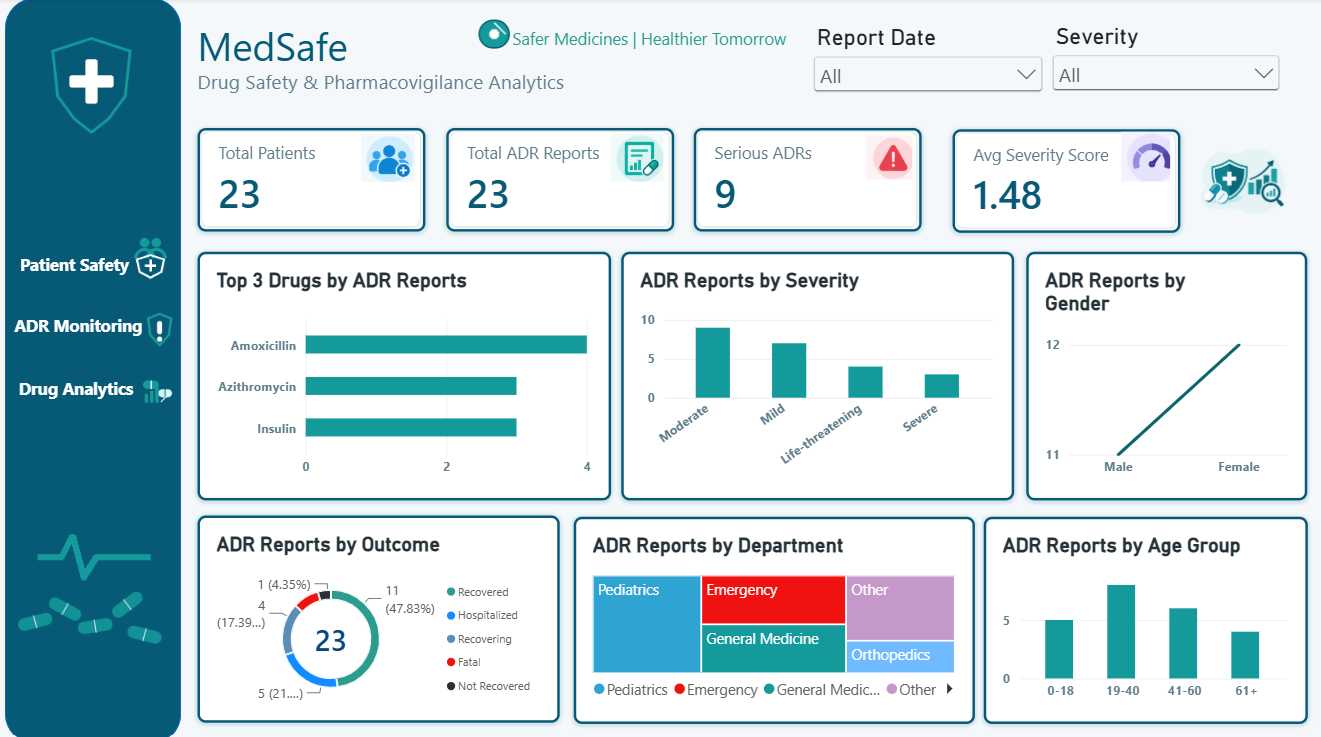

Layout of this report page (visuals, bound fields, positions):
{"tool":"powerbi","page":{"name":"Page 1","canvas":[1280,720],"ordinal":0},"visuals":[{"type":"shape","box":[10,0,170,720],"z":0},{"type":"textbox","box":[245,0,170,720],"z":1000},{"type":"textbox","box":[195,20,250,50],"z":2000},{"type":"textbox","box":[195,68,450,45],"z":3000},{"type":"textbox","box":[500,28,300,25],"z":4000},{"type":"cardVisual","fields":{"Data":["Count(Medication_Safety_Dataset.patient_id)"]},"box":[195,125,220,100],"z":5000},{"type":"cardVisual","fields":{"Data":["CountNonNull(Medication_Safety_Dataset.record_id)"]},"box":[435,125,220,100],"z":6000},{"type":"cardVisual","fields":{"Data":["Sum(Medication_Safety_Dataset.Serious ADR Flag)"]},"box":[675,125,220,100],"z":7000},{"type":"cardVisual","fields":{"Data":["Avg(Medication_Safety_Dataset.Severity Score)"]},"box":[924.1,126.7,220,100],"z":8000},{"type":"clusteredBarChart","title":"Top 3 Drugs by ADR Reports","fields":{"Category":["Medication_Safety_Dataset.drug"],"Y":["CountNonNull(Medication_Safety_Dataset.record_id)"]},"box":[195.4,244.9,399.3,240.1],"z":9000},{"type":"clusteredColumnChart","title":"ADR Reports by Severity","fields":{"Category":["Medication_Safety_Dataset.severity"],"Y":["CountNonNull(Medication_Safety_Dataset.record_id)"]},"box":[604.4,244.9,378.8,240.1],"z":10000},{"type":"donutChart","title":"ADR Reports by Outcome","fields":{"Category":["Medication_Safety_Dataset.outcome"],"Y":["CountNonNull(Medication_Safety_Dataset.record_id)"]},"box":[195.4,499.5,349.9,200.3],"z":11000},{"type":"treemap","title":"ADR Reports by Department","fields":{"Group":["Medication_Safety_Dataset.department"],"Values":["CountNonNull(Medication_Safety_Dataset.record_id)"]},"box":[558.6,500.7,387.3,200.3],"z":12000},{"type":"slicer","fields":{"Values":["Medication_Safety_Dataset.Report Date"]},"box":[785.4,25.3,230.4,66.4],"z":13000},{"type":"slicer","fields":{"Values":["Medication_Safety_Dataset.severity"]},"box":[1015.8,24.1,229.2,70],"z":14000},{"type":"image","box":[35,25,116.2,120],"z":15000},{"type":"image","box":[405.4,0,153.2,70],"z":16000},{"type":"image","box":[9.7,470.5,165.3,249.7],"z":17000},{"type":"image","box":[353.5,130.3,51.9,48.3],"z":18000},{"type":"image","box":[594.8,118.2,50.7,72.4],"z":19000},{"type":"image","box":[832.4,132.7,61.5,42.2],"z":20000},{"type":"image","box":[1087,129.1,47.1,48.3],"z":21000},{"type":"lineClusteredColumnComboChart","title":"ADR Reports by Age Group","fields":{"Category":["Medication_Safety_Dataset.Age Group"],"Y":["CountNonNull(Medication_Safety_Dataset.record_id)"]},"box":[954.3,500.7,312.5,200.3],"z":22000},{"type":"lineChart","title":"ADR Reports by Gender","fields":{"Category":["Medication_Safety_Dataset.gender"],"Y":["CountNonNull(Medication_Safety_Dataset.record_id)"]},"box":[995.3,244.9,271.4,240.1],"z":23000},{"type":"image","box":[1073.7,123.1,206.3,112.2],"z":24000},{"type":"textbox","box":[23.8,246.2,142.5,41.2],"z":25000},{"type":"textbox","box":[10,305,156.2,73.8],"z":26000},{"type":"textbox","box":[10,365,165,53.8],"z":27000},{"type":"image","box":[123.8,212.5,51.2,75],"z":28000},{"type":"image","box":[137.5,297.5,42.5,45],"z":28001},{"type":"image","box":[137.5,355,38.8,46.2],"z":28002},{"type":"image","box":[22.5,470,145,125],"z":28003}]}

Visuals, with their boxes in screenshot pixels (x1, y1, x2, y2):
shape: {"x1": 0, "y1": 0, "x2": 178, "y2": 736}
textbox: {"x1": 246, "y1": 0, "x2": 424, "y2": 736}
textbox: {"x1": 194, "y1": 14, "x2": 455, "y2": 66}
textbox: {"x1": 194, "y1": 64, "x2": 664, "y2": 111}
textbox: {"x1": 512, "y1": 22, "x2": 826, "y2": 49}
cardVisual - Count(Medication_Safety_Dataset.patient_id): {"x1": 194, "y1": 124, "x2": 424, "y2": 228}
cardVisual - CountNonNull(Medication_Safety_Dataset.record_id): {"x1": 444, "y1": 124, "x2": 674, "y2": 228}
cardVisual - Sum(Medication_Safety_Dataset.Serious ADR Flag): {"x1": 695, "y1": 124, "x2": 925, "y2": 228}
cardVisual - Avg(Medication_Safety_Dataset.Severity Score): {"x1": 956, "y1": 126, "x2": 1186, "y2": 230}
"Top 3 Drugs by ADR Reports" clusteredBarChart: {"x1": 194, "y1": 249, "x2": 611, "y2": 500}
"ADR Reports by Severity" clusteredColumnChart: {"x1": 622, "y1": 249, "x2": 1018, "y2": 500}
"ADR Reports by Outcome" donutChart: {"x1": 194, "y1": 515, "x2": 560, "y2": 725}
"ADR Reports by Department" treemap: {"x1": 574, "y1": 517, "x2": 979, "y2": 726}
slicer - Medication_Safety_Dataset.Report Date: {"x1": 811, "y1": 20, "x2": 1052, "y2": 89}
slicer - Medication_Safety_Dataset.severity: {"x1": 1052, "y1": 18, "x2": 1291, "y2": 91}
image: {"x1": 26, "y1": 19, "x2": 148, "y2": 145}
image: {"x1": 413, "y1": 0, "x2": 574, "y2": 66}
image: {"x1": 0, "y1": 485, "x2": 173, "y2": 736}
image: {"x1": 359, "y1": 129, "x2": 413, "y2": 180}
image: {"x1": 611, "y1": 117, "x2": 664, "y2": 192}
image: {"x1": 860, "y1": 132, "x2": 924, "y2": 176}
image: {"x1": 1126, "y1": 128, "x2": 1175, "y2": 179}
"ADR Reports by Age Group" lineClusteredColumnComboChart: {"x1": 987, "y1": 517, "x2": 1314, "y2": 726}
"ADR Reports by Gender" lineChart: {"x1": 1030, "y1": 249, "x2": 1314, "y2": 500}
image: {"x1": 1112, "y1": 122, "x2": 1320, "y2": 239}
textbox: {"x1": 15, "y1": 250, "x2": 164, "y2": 294}
textbox: {"x1": 0, "y1": 312, "x2": 163, "y2": 389}
textbox: {"x1": 0, "y1": 375, "x2": 173, "y2": 431}
image: {"x1": 119, "y1": 215, "x2": 173, "y2": 294}
image: {"x1": 133, "y1": 304, "x2": 178, "y2": 351}
image: {"x1": 133, "y1": 364, "x2": 174, "y2": 413}
image: {"x1": 13, "y1": 484, "x2": 165, "y2": 615}
